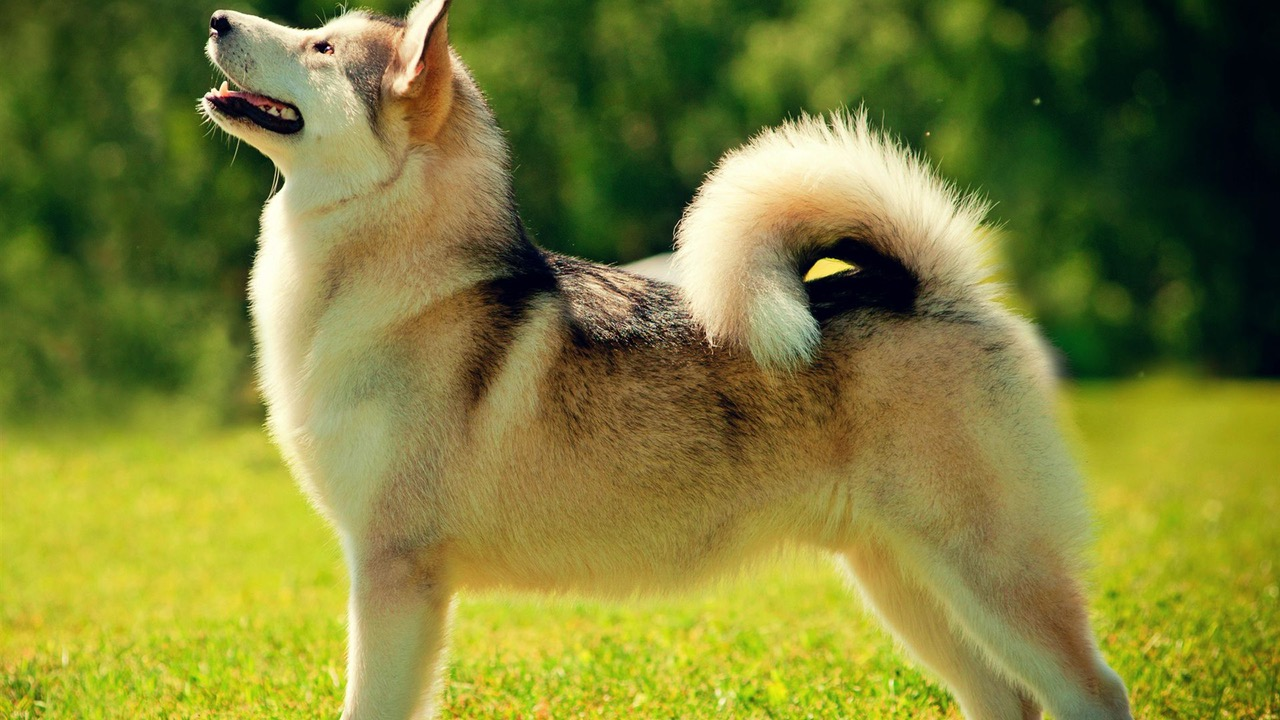tail: (675, 99, 1031, 368)
